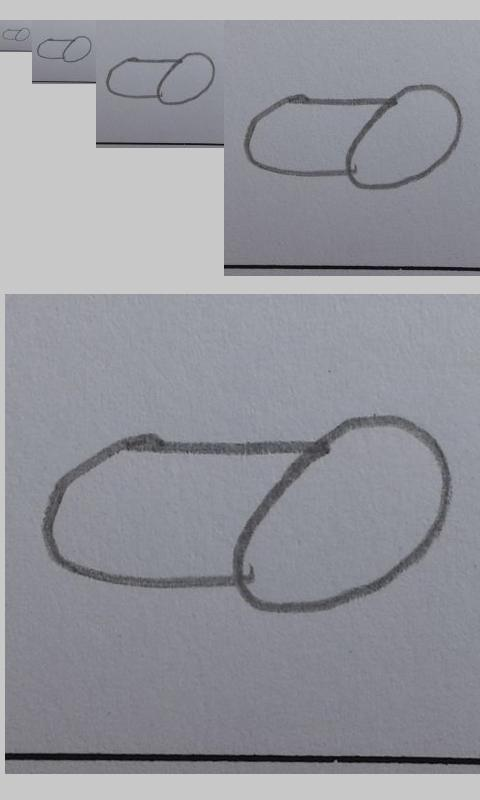switch: (43, 415, 453, 615), (244, 84, 463, 191), (106, 52, 215, 106), (36, 35, 92, 63), (2, 27, 31, 42)
